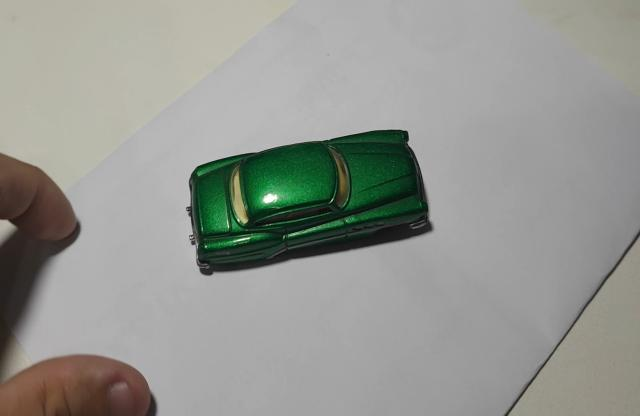06_MASERATI: (189, 129, 434, 277)
